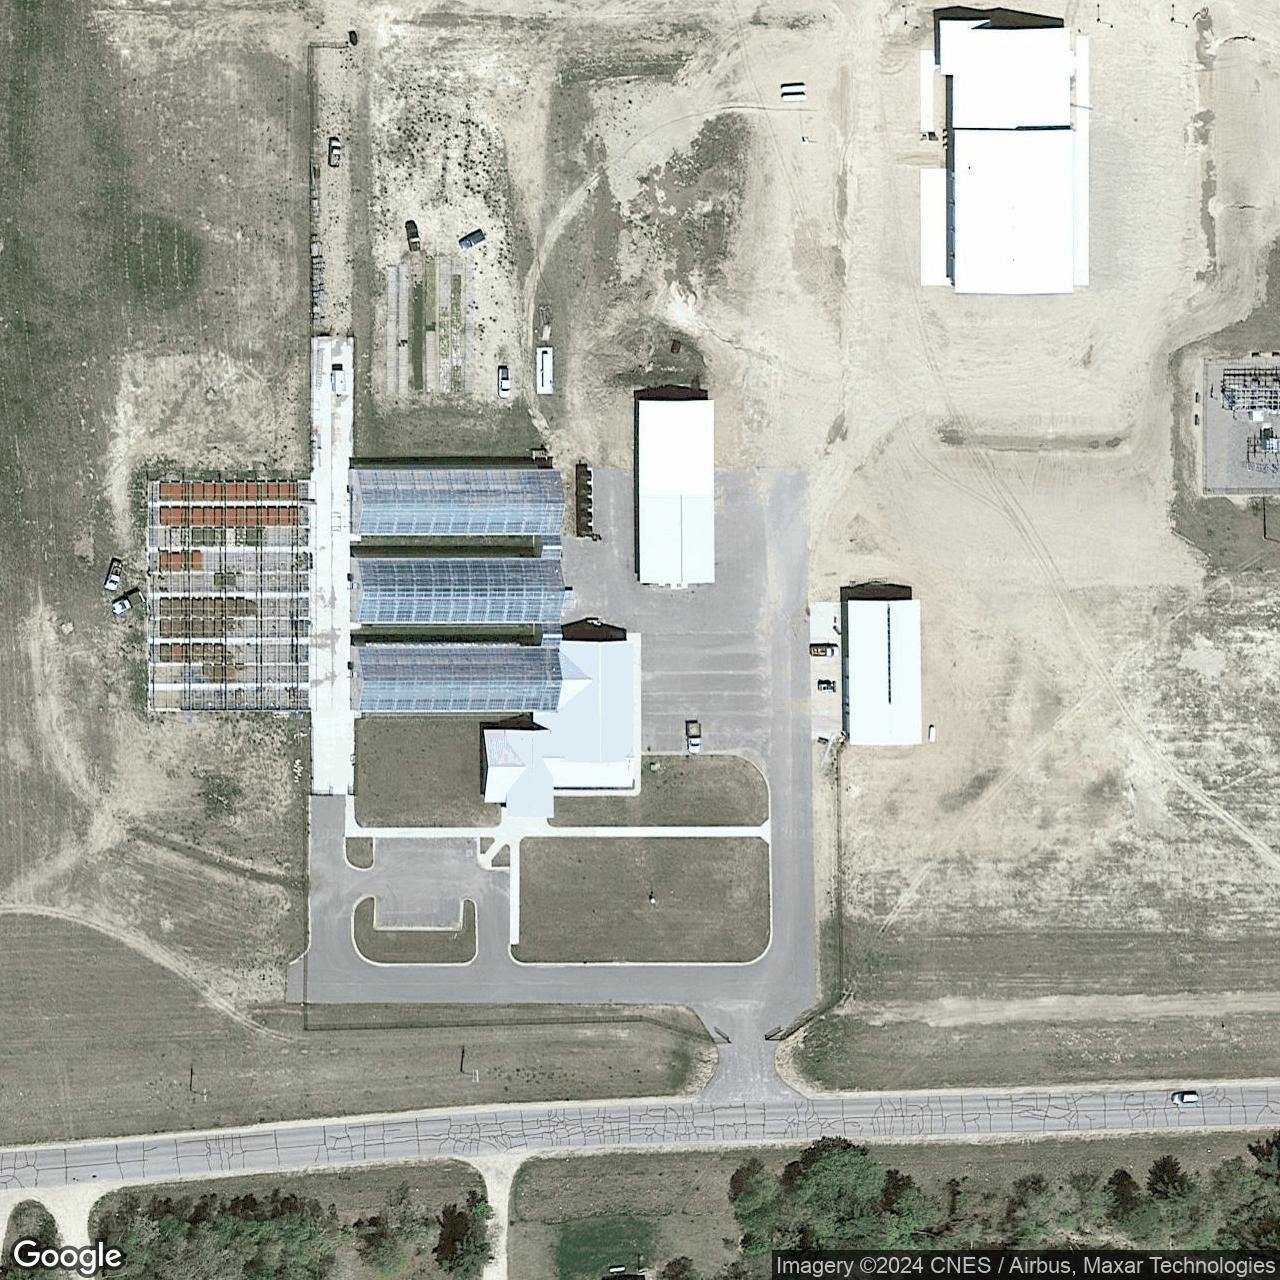Other: (349, 466, 635, 819), (937, 18, 1077, 296), (636, 398, 718, 586), (847, 597, 924, 747)
Propane: (541, 349, 549, 389), (781, 80, 807, 92), (780, 92, 807, 102), (927, 723, 937, 744), (607, 1264, 627, 1274)
